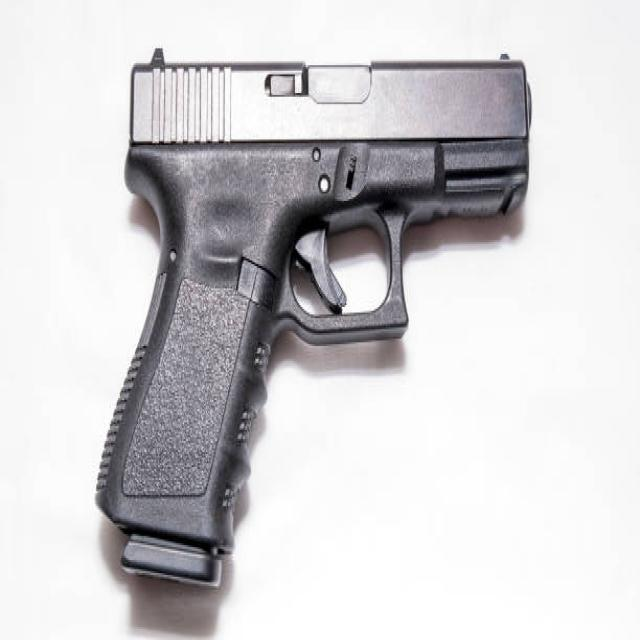pistol: (88, 48, 536, 598)
